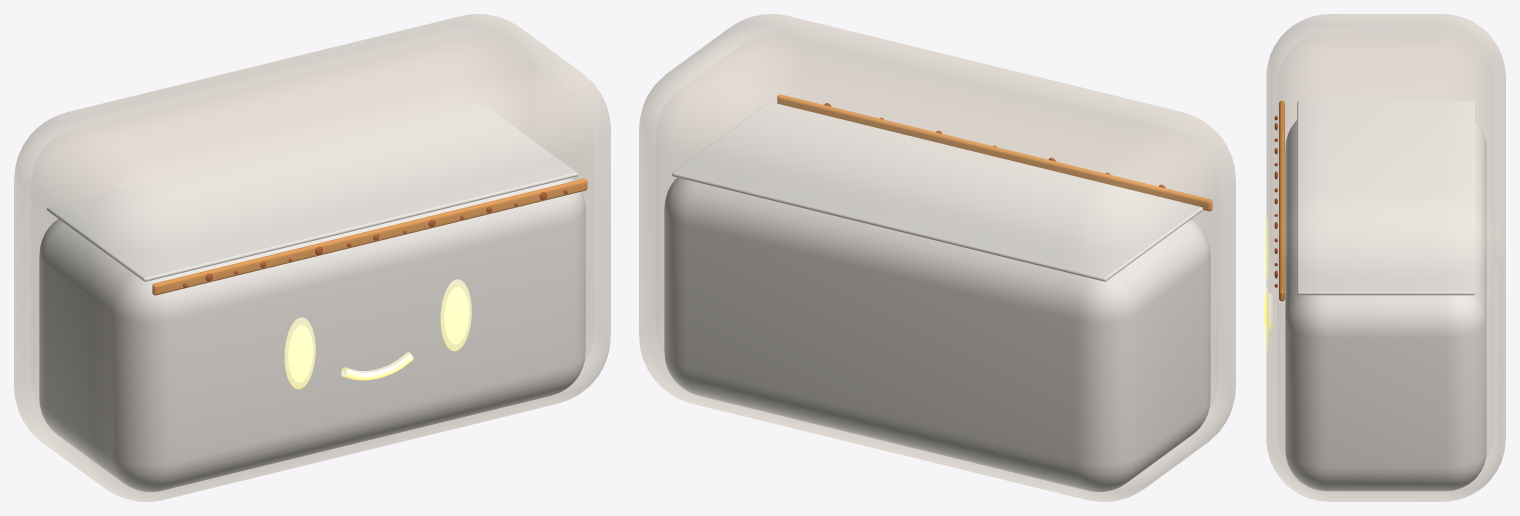
File: projekt-mascot-v05.glb
3 views of the same model, side by side, from view 1: azimuth 30°, elevation 25°; view 2: azimuth 150°, elevation 25°; view 3: azimuth 270°, elevation 25° (orthographic). The views are drawn at different scales.
Parts seen in each view (by area): view 1: Shell, CoffeeVolume, CremaSurface, Crema, Eye_R_Core, Eye_L_Core, Mouth_Core; view 2: Shell, CoffeeVolume, CremaSurface, Crema; view 3: Shell, CoffeeVolume, CremaSurface, Crema.
Boxes of the visible parts, bbox=[...] form: Shell: bbox=[14, 14, 610, 501]; CoffeeVolume: bbox=[39, 177, 585, 492]; CremaSurface: bbox=[47, 102, 577, 281]; Crema: bbox=[152, 178, 587, 295]; Eye_R_Core: bbox=[440, 279, 471, 351]; Eye_L_Core: bbox=[284, 317, 315, 389]; Mouth_Core: bbox=[341, 352, 413, 380]; Shell: bbox=[639, 14, 1235, 501]; CoffeeVolume: bbox=[664, 177, 1210, 492]; CremaSurface: bbox=[672, 102, 1202, 281]; Crema: bbox=[777, 94, 1212, 211]; Shell: bbox=[1266, 14, 1505, 501]; CoffeeVolume: bbox=[1285, 120, 1486, 491]; CremaSurface: bbox=[1297, 101, 1474, 295]; Crema: bbox=[1279, 100, 1284, 301].
Size of what is drawn, in the model's own units: 3.24 by 2 by 1.45.
